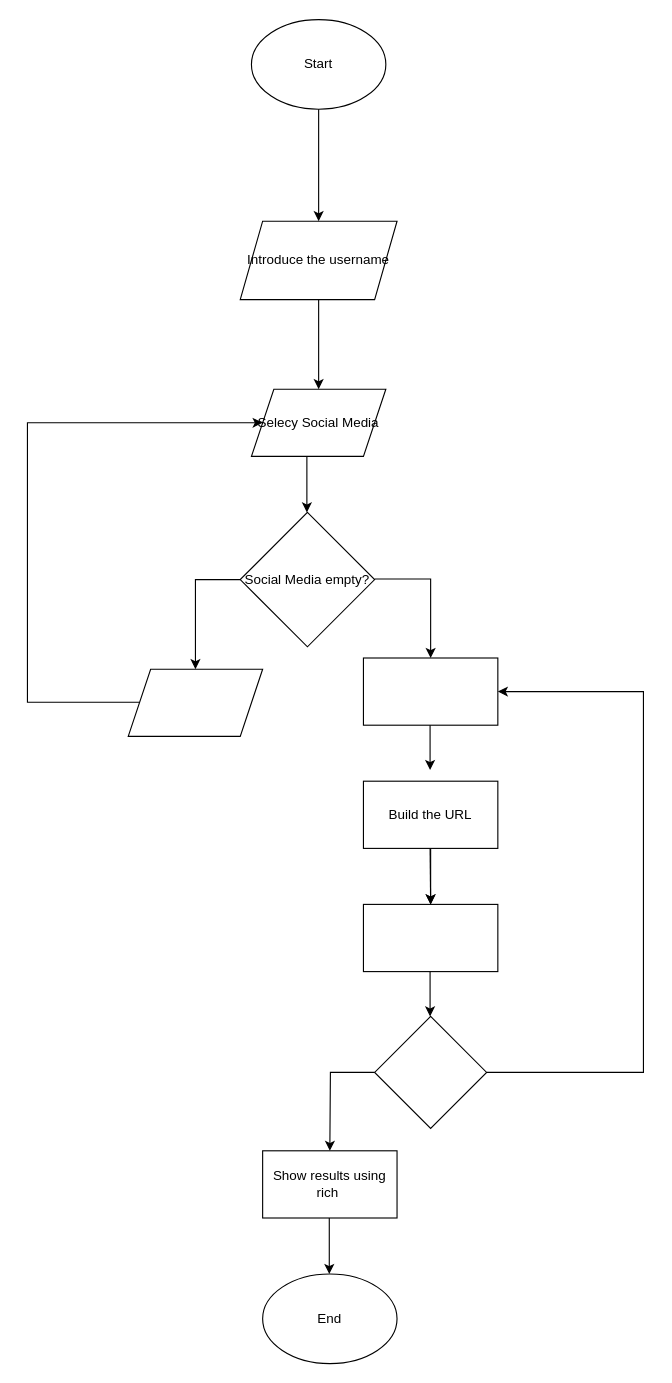
The diagram is 672 pixels wide and 1383 high, and some of its shapes have lost their labels. The centre of each missing label's shape, as x and y in pixels:
"Create the Request" belongs at [430,937].
"More Social Media" belongs at [430,1071].
"Run the Social Media" belongs at [430,691].
"Social Media is empty" belongs at [195,702].
